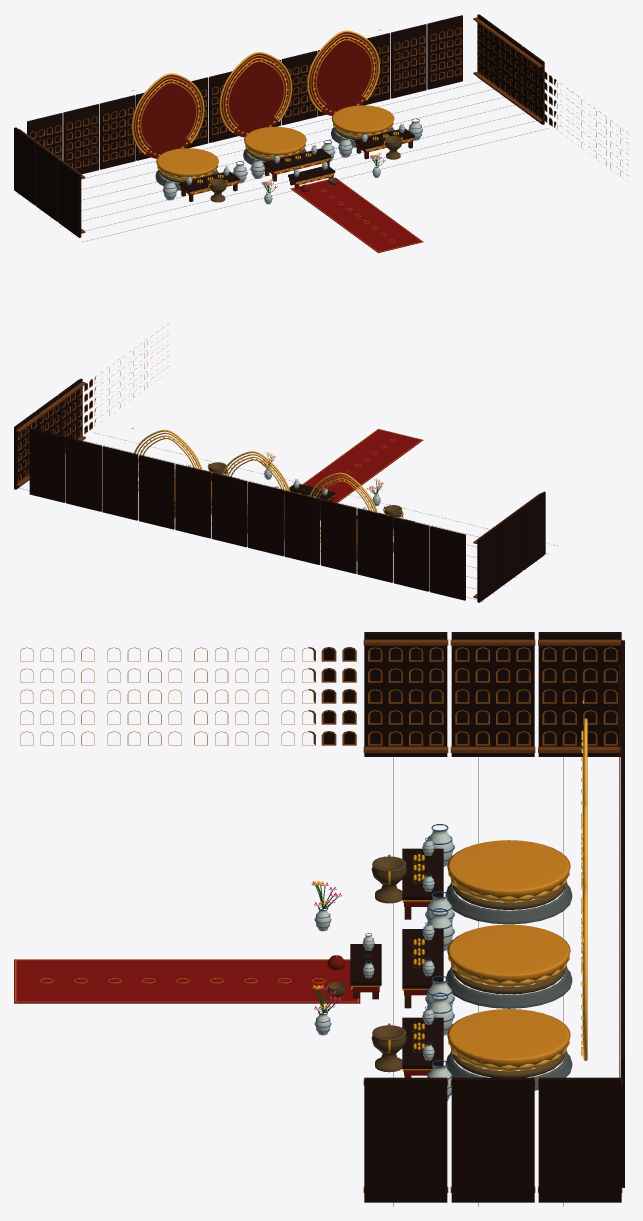
Rendered from tam-the-interior.glb.
3 views of the same model, one above another, from view 1: azimuth 30°, elevation 25°; view 2: azimuth 150°, elevation 25°; view 3: azimuth 270°, elevation 25° (orthographic). The views are drawn at different scales.
Visible parts, largest first — view 1: Interior; view 2: Interior; view 3: Interior.
Part boxes in pixels (x1,y1,x2,y2): Interior: (14,14,628,253); Interior: (14,323,557,602); Interior: (14,632,624,1206).
Bounding box in the file's own units: 50.1 × 9.14 × 28.95.
